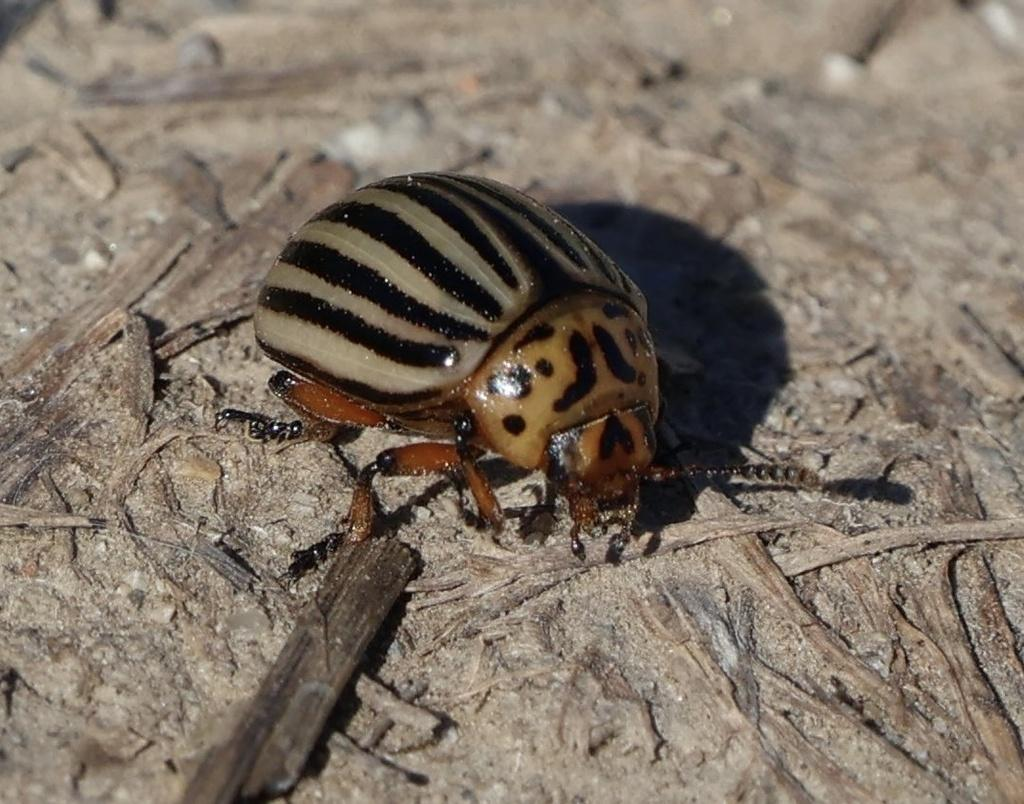potato_beetle: (193, 124, 828, 606)
